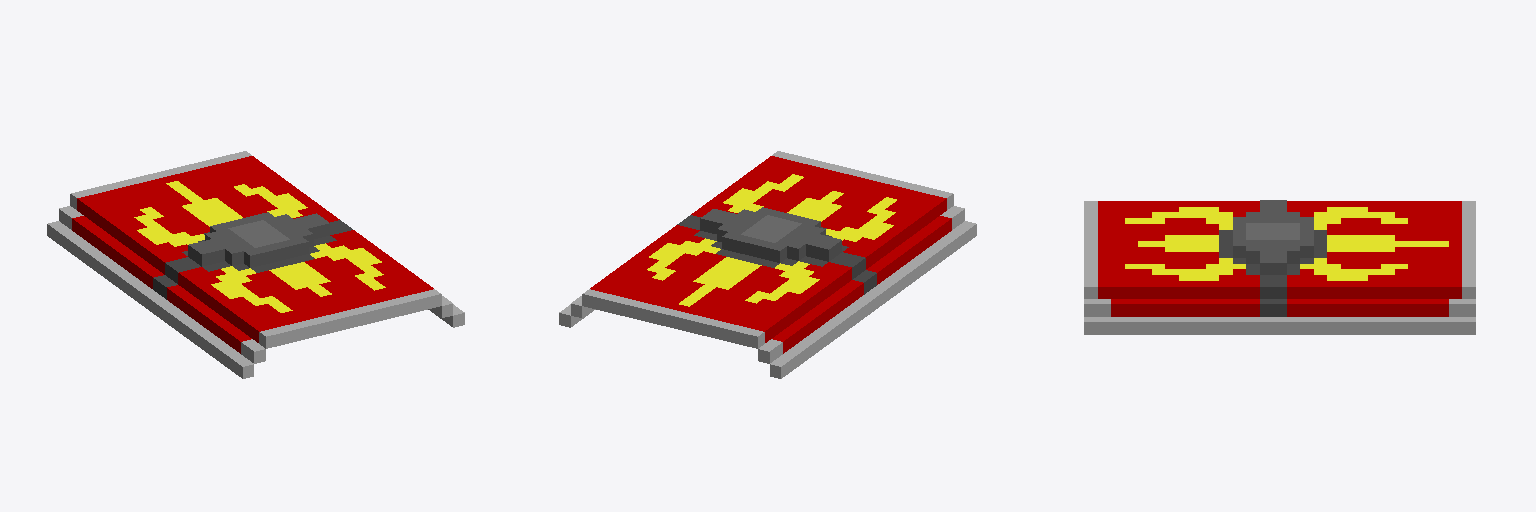
3 views of the same model, side by side, from view 1: azimuth 30°, elevation 25°; view 2: azimuth 150°, elevation 25°; view 3: azimuth 270°, elevation 25° (orthographic).
Visible parts, largest first — view 1: object 1; view 2: object 1; view 3: object 1.
Boxes of the visible parts, x1=… form: object 1: x1=47, y1=151, x2=464, y2=378; object 1: x1=559, y1=151, x2=976, y2=378; object 1: x1=1084, y1=200, x2=1475, y2=334.
Size of the model in its own units: 1.9 by 0.4 by 2.9.
1 materials, 1 textured.